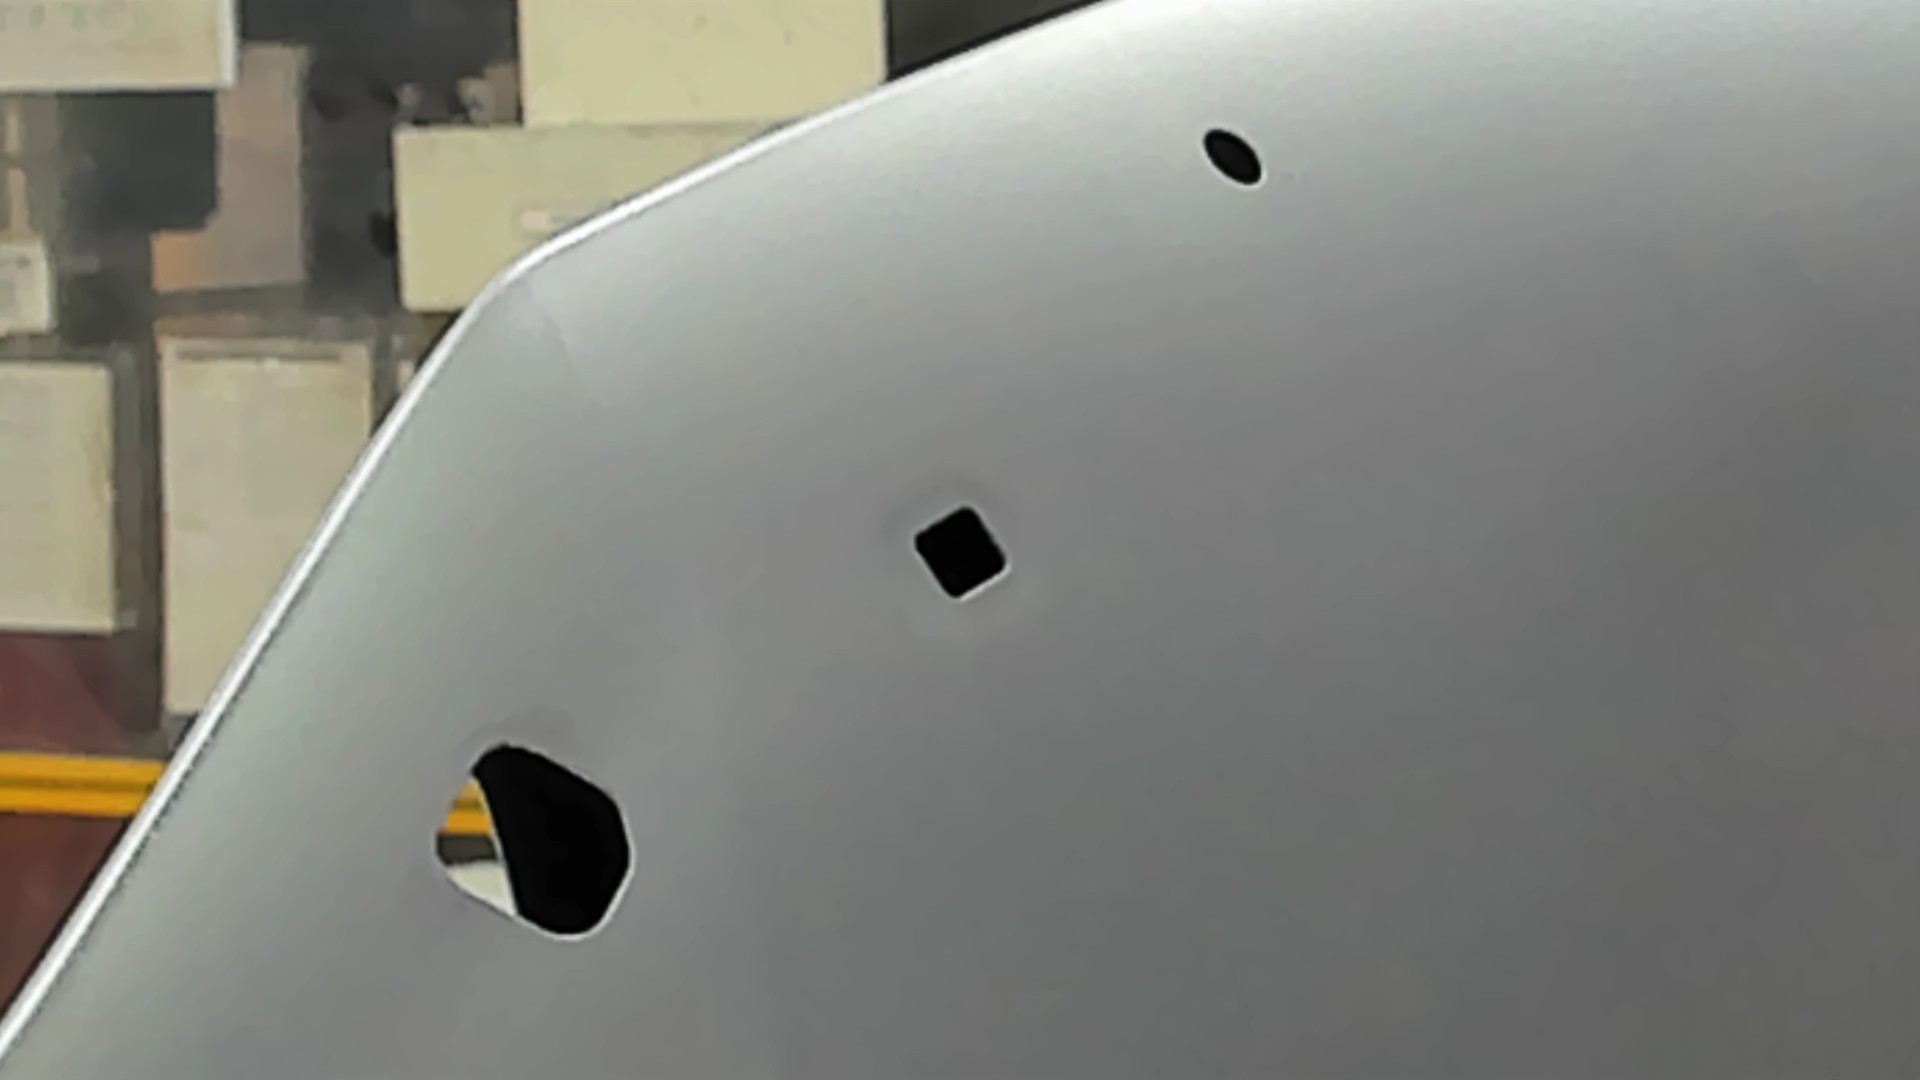chico: (1197, 123, 1269, 191)
grande: (433, 737, 640, 951)
mediano: (902, 498, 1015, 611)
